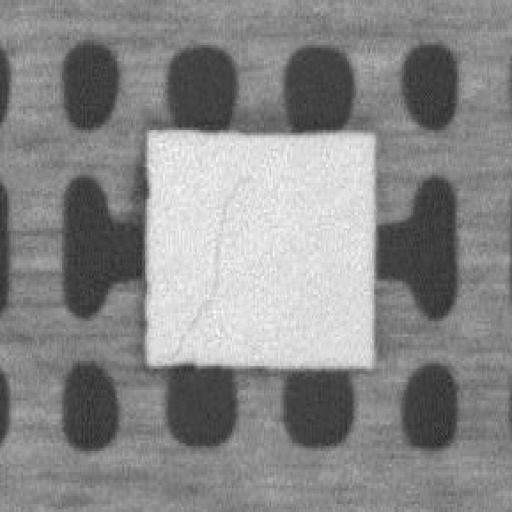DIE_CRACK: (170, 170, 248, 347)
